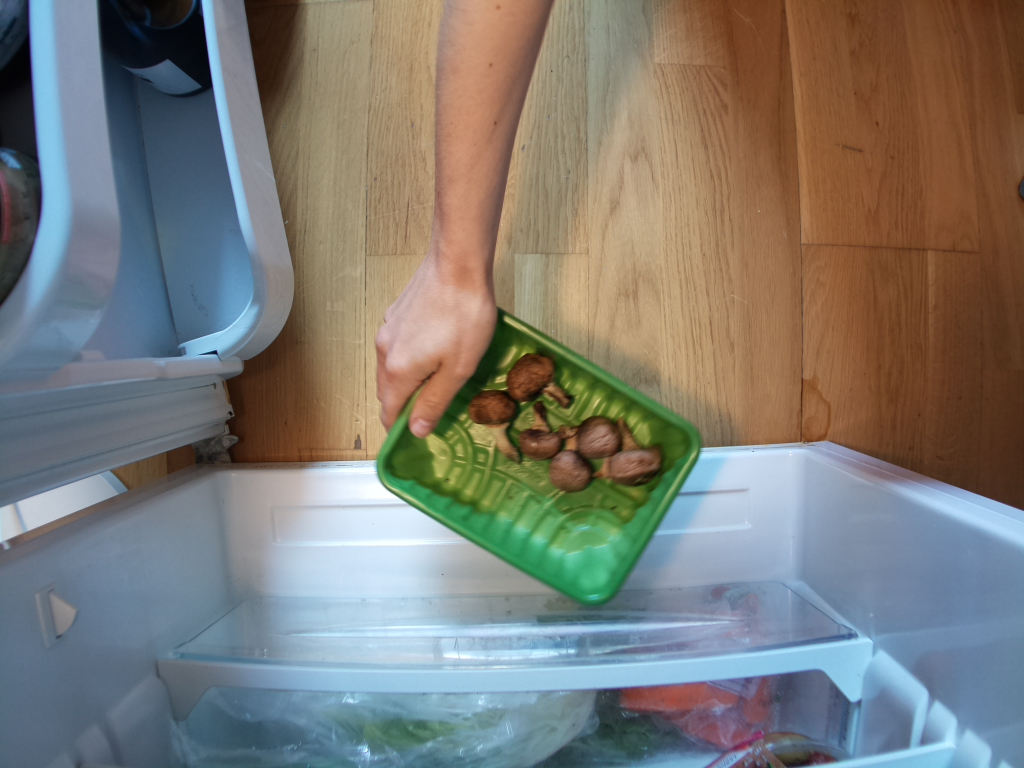mushrooms-bad: (378, 309, 701, 600)
